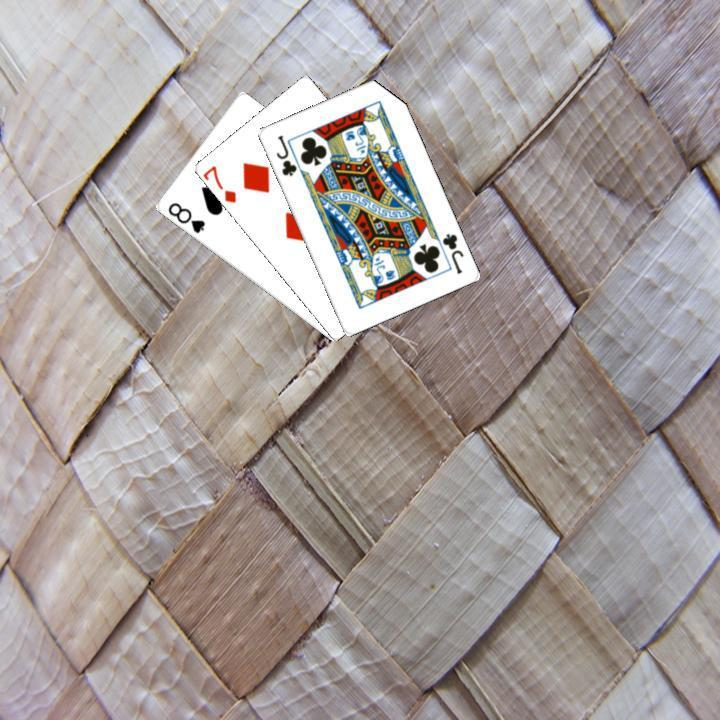7: (199, 161, 238, 205)
8: (163, 198, 207, 236)
J: (271, 130, 299, 178), (437, 229, 465, 276)
